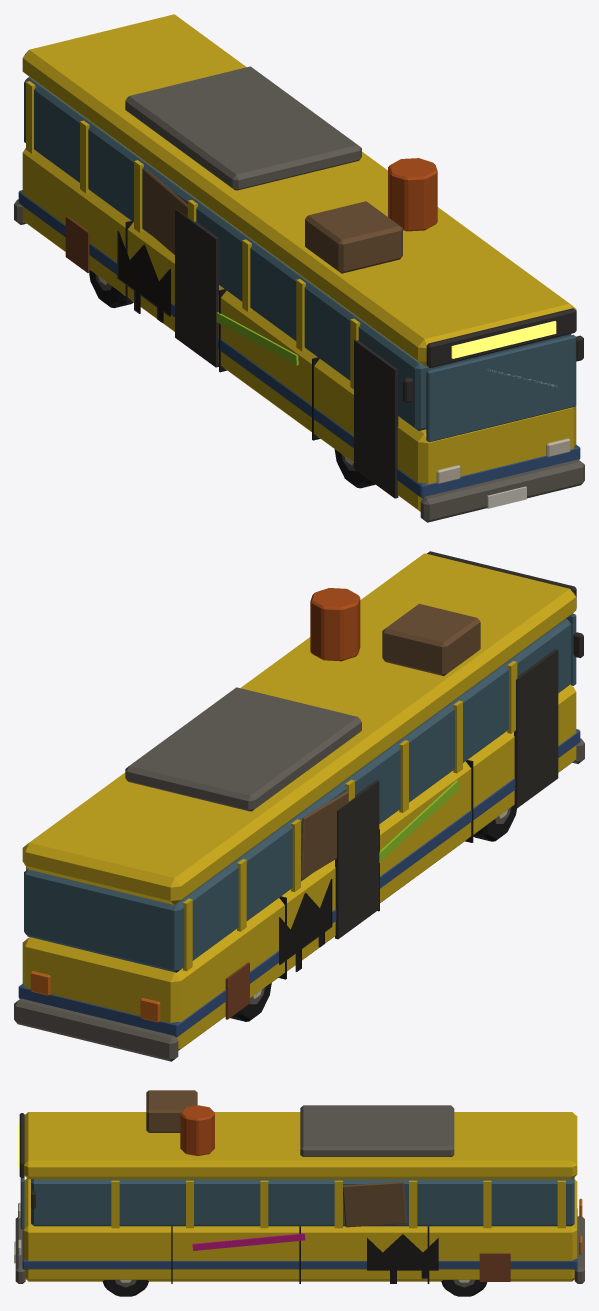
File: c_bus.glb
3 views of the same model, one above another, from view 1: azimuth 30°, elevation 25°; view 2: azimuth 150°, elevation 25°; view 3: azimuth 270°, elevation 25° (orthographic). The views are drawn at different scales.
Parts seen in each view (by area): view 1: c_bus; view 2: c_bus; view 3: c_bus.
Part boxes in pixels (x1,y1,x2,y2): c_bus: (14, 14, 584, 522); c_bus: (14, 551, 584, 1061); c_bus: (14, 1090, 584, 1296).
Size of the model in its own units: 2.78 by 3.73 by 11.13.
